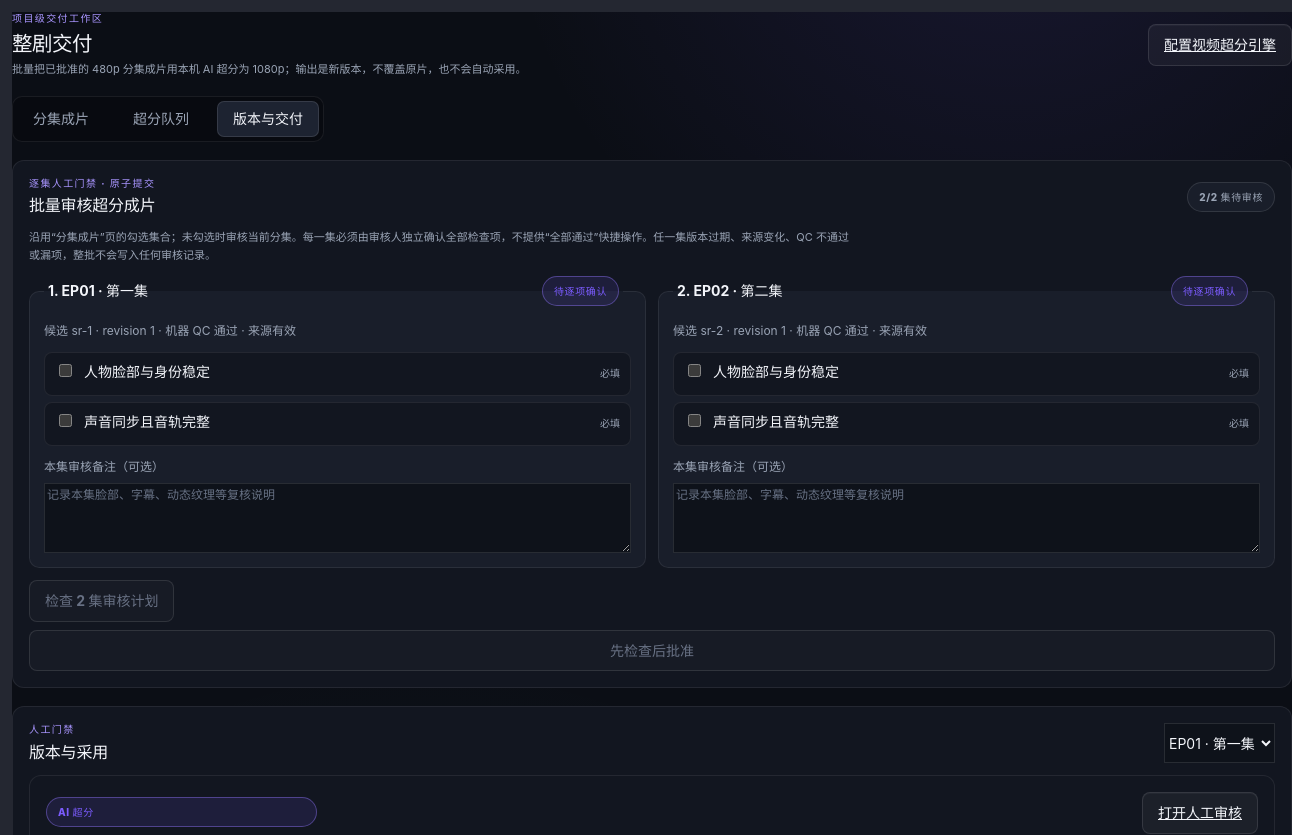
Test: ProjectDeliveryPage › requires independent per-episode checks before atomically approving a batch
This screenshot has width=1292, height=835.
Expected: the button "检查 2 集审核计划" is disabled, x1=29 y1=580 x2=174 y2=622
Click the checkbox labelled "人物脸部与身份稳定 必填" below "EP01 · 第一集" at (66, 371), box x1=59 y1=364 x2=72 y2=377
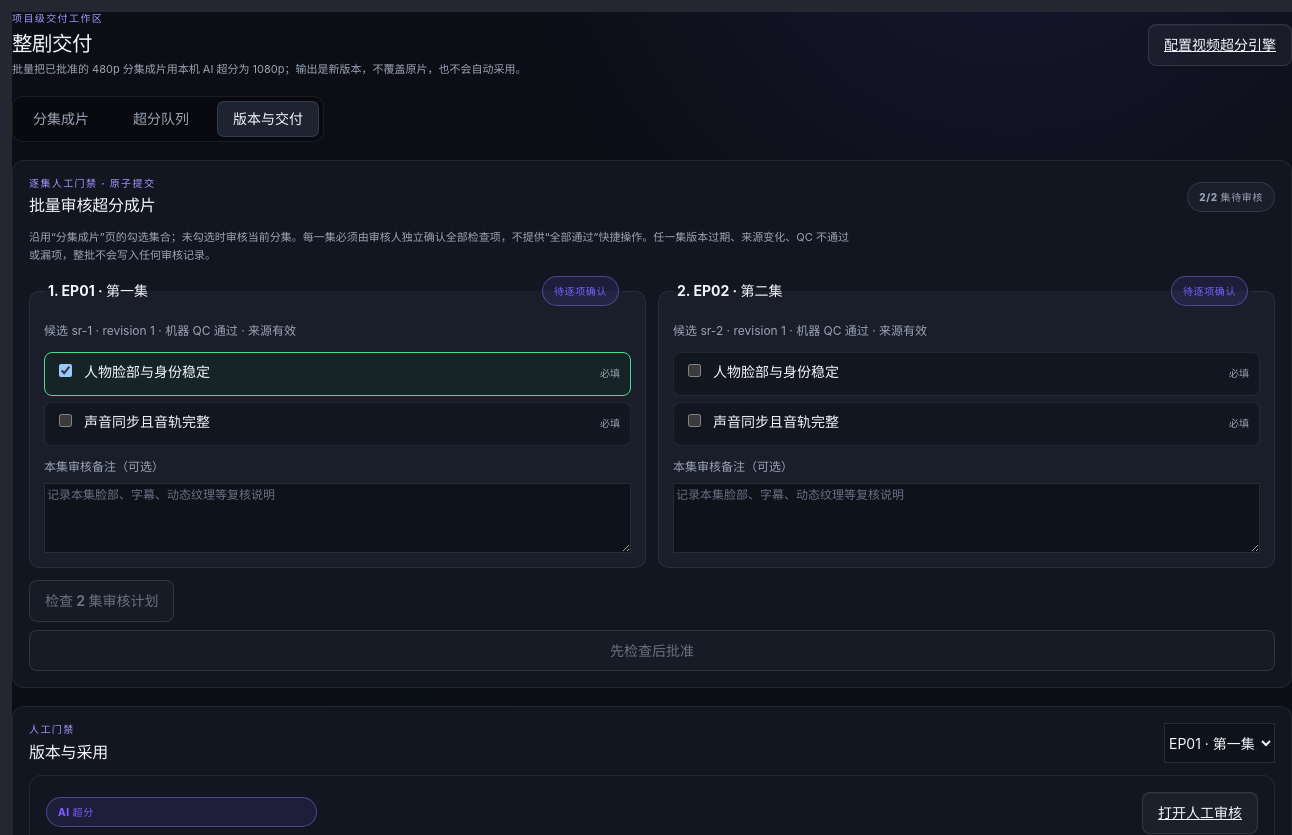
Click the checkbox labelled "声音同步且音轨完整 必填" below "EP01 · 第一集" at (66, 421), box x1=59 y1=414 x2=72 y2=427
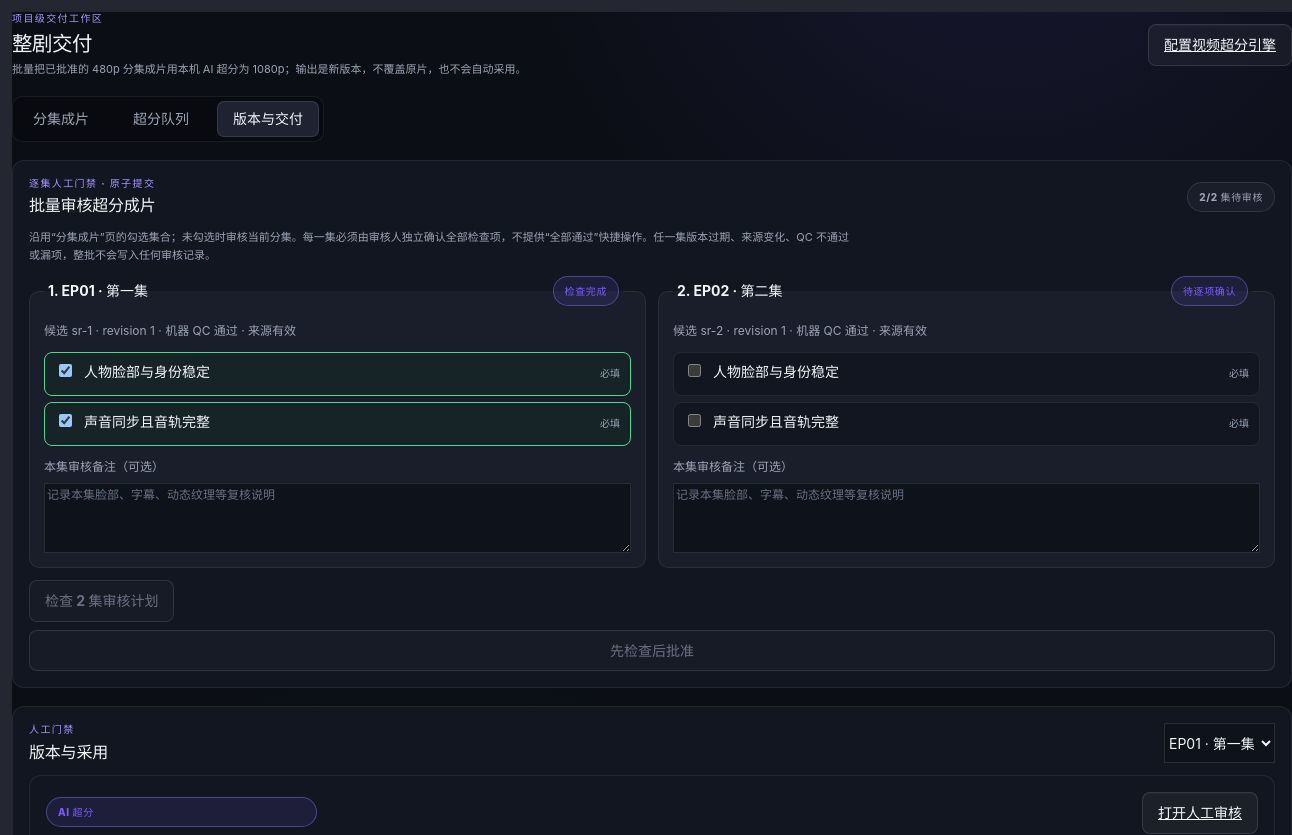
Expected: the button "检查 2 集审核计划" is disabled, x1=29 y1=580 x2=174 y2=622
Click the checkbox labelled "人物脸部与身份稳定 必填" below "sr-2" at (694, 371), box x1=688 y1=364 x2=701 y2=377
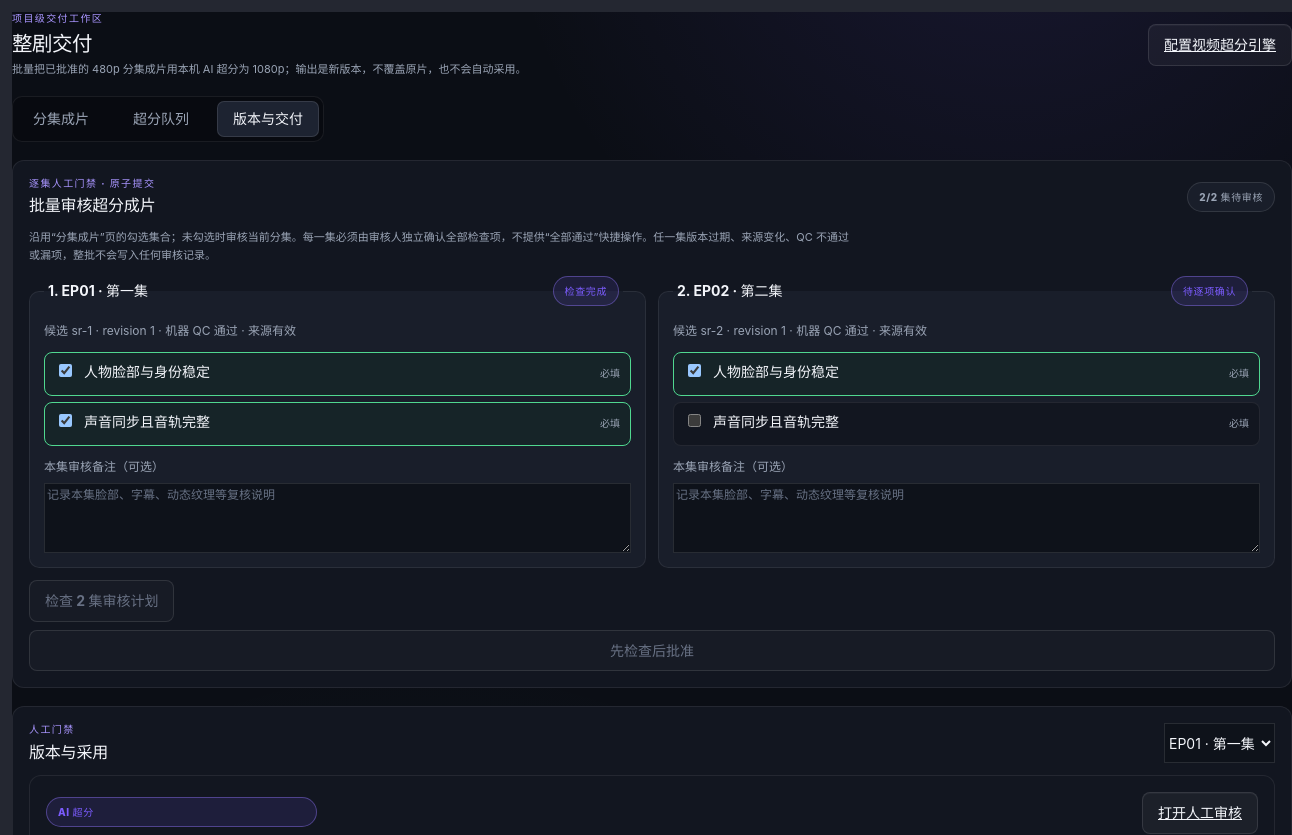
Click the checkbox labelled "声音同步且音轨完整 必填" below "sr-2" at (694, 421), box x1=688 y1=414 x2=701 y2=427
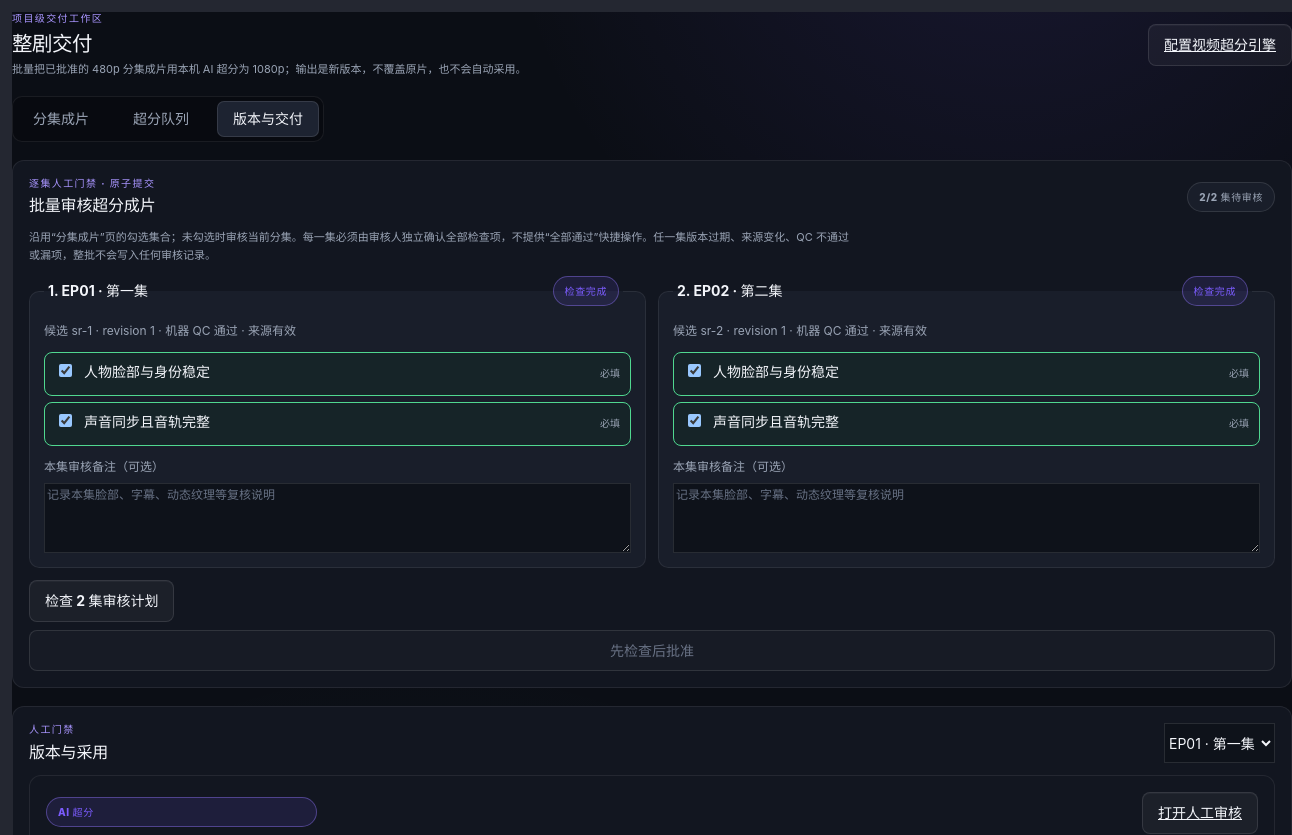
Result: the button "检查 2 集审核计划" is enabled
Click the button "检查 2 集审核计划" at (102, 601), box x1=29 y1=580 x2=174 y2=622
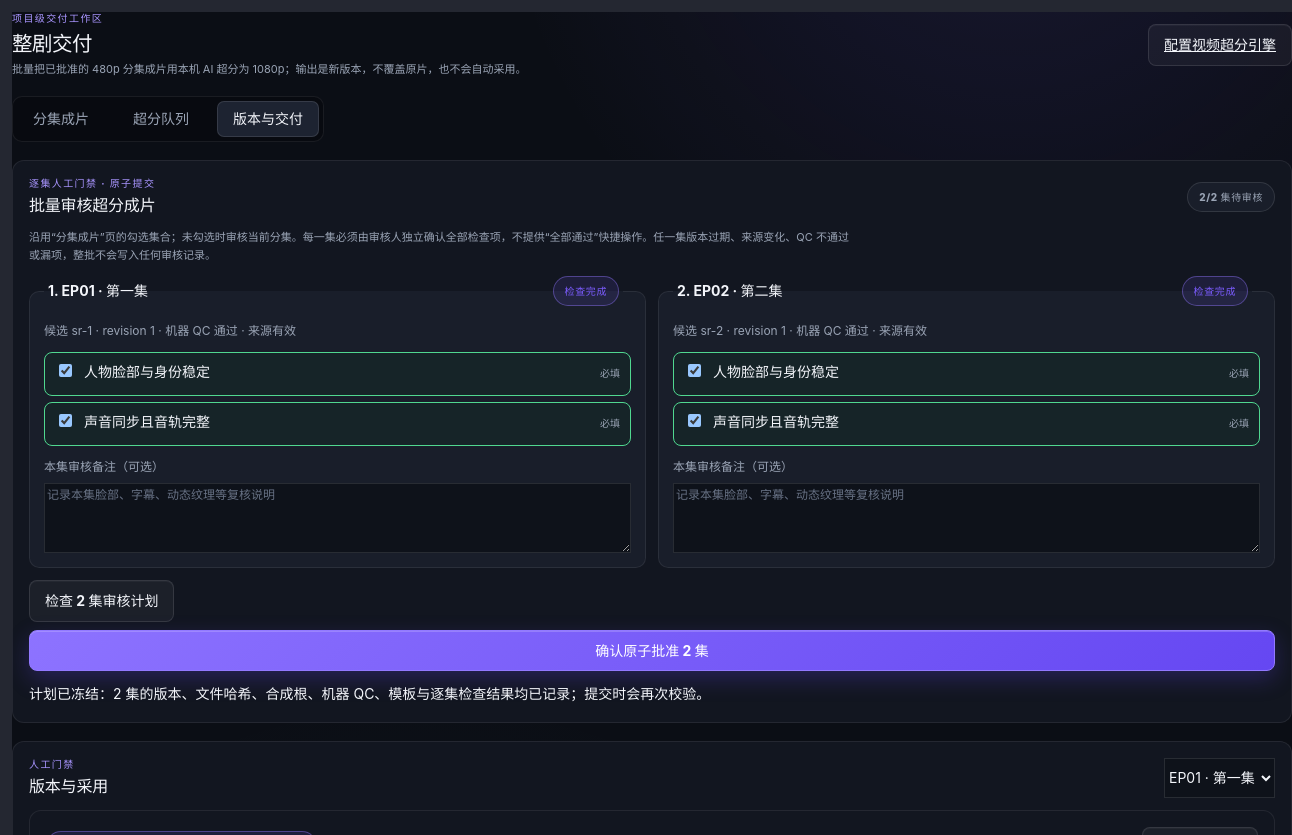
Click the button "确认原子批准 2 集" at (652, 650), box x1=29 y1=630 x2=1275 y2=671
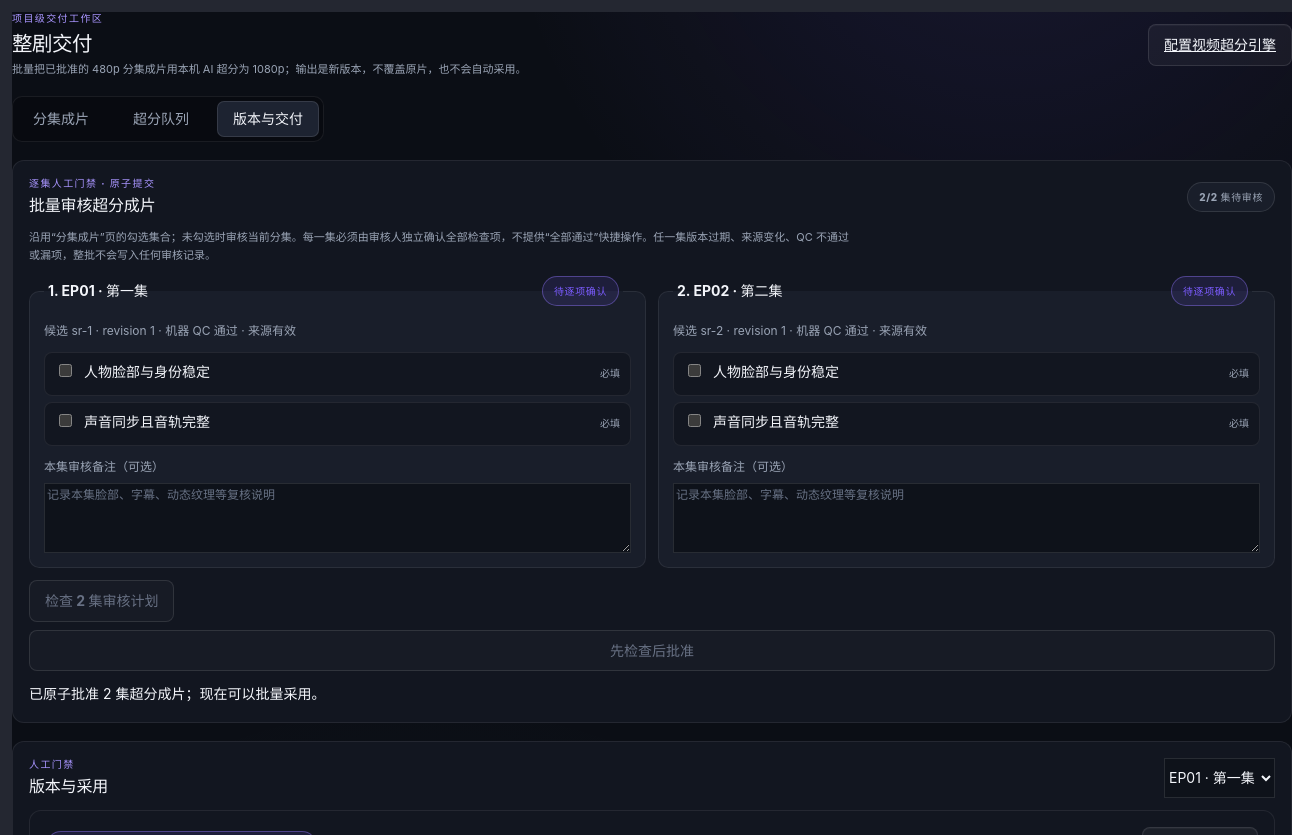
Result: the text "已原子批准 2 集超分成片；现在可以批量采用。" is shown at x1=29 y1=685 x2=325 y2=702
